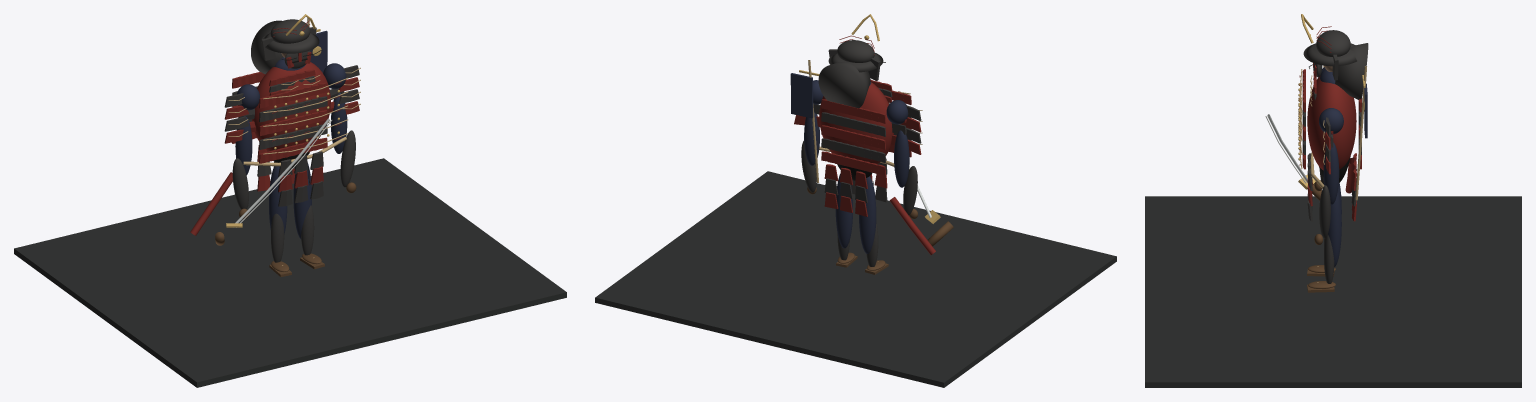
The model's file is actor-takeda-06.glb.
The picture shows the model from 3 angles, left to right: view 1: azimuth 30°, elevation 25°; view 2: azimuth 150°, elevation 25°; view 3: azimuth 270°, elevation 25°; orthographic projection. The views are drawn at different scales.
Visible parts, largest first — view 1: matte charcoal inspection plinth, rounded do cuirass silhouette, rear shikoro neck guard flare, segmented kabuto helmet bowl, right armored upper arm, right kote forearm guard, left kote forearm guard, wide kabuto brim, left hakama trouser leg, right hakama trouser leg, left armored upper arm, left shin greave (+2 smaller); view 2: matte charcoal inspection plinth, rear shikoro neck guard flare, rounded do cuirass silhouette, cloth sashimono banner panel, left hakama trouser leg, left armored upper arm, segmented kabuto helmet bowl, right hakama trouser leg, right armored upper arm, left kote forearm guard, lacquered saya scabbard at left hip; view 3: matte charcoal inspection plinth, rounded do cuirass silhouette, rear shikoro neck guard flare, segmented kabuto helmet bowl, right hakama trouser leg, wide kabuto brim, right armored upper arm, right kote forearm guard, right shoulder undercloth, right shin greave, bamboo sashimono back pole.
Part boxes in pixels (x1,y1,x2,y2): matte charcoal inspection plinth: [14, 158, 566, 387]; rounded do cuirass silhouette: [252, 62, 330, 151]; rear shikoro neck guard flare: [251, 20, 283, 74]; segmented kabuto helmet bowl: [270, 19, 310, 43]; right armored upper arm: [330, 93, 347, 153]; right kote forearm guard: [340, 130, 355, 187]; left kote forearm guard: [232, 158, 248, 209]; wide kabuto brim: [261, 33, 319, 53]; left hakama trouser leg: [269, 166, 287, 234]; right hakama trouser leg: [293, 163, 311, 239]; left armored upper arm: [235, 116, 252, 175]; left shin greave: [271, 213, 284, 262]; matte charcoal inspection plinth: [595, 171, 1116, 387]; rear shikoro neck guard flare: [818, 61, 870, 108]; rounded do cuirass silhouette: [819, 82, 893, 164]; cloth sashimono banner panel: [790, 73, 813, 118]; left hakama trouser leg: [859, 176, 876, 253]; left armored upper arm: [894, 130, 909, 187]; segmented kabuto helmet bowl: [837, 40, 874, 62]; right hakama trouser leg: [835, 173, 852, 248]; right armored upper arm: [804, 111, 819, 165]; left kote forearm guard: [903, 166, 917, 215]; lacquered saya scabbard at left hip: [889, 197, 935, 254]; matte charcoal inspection plinth: [1145, 196, 1521, 387]; rounded do cuirass silhouette: [1307, 76, 1356, 170]; rear shikoro neck guard flare: [1335, 43, 1368, 99]; segmented kabuto helmet bowl: [1316, 30, 1350, 56]; right hakama trouser leg: [1328, 189, 1341, 267]; wide kabuto brim: [1303, 43, 1356, 66]; right armored upper arm: [1323, 142, 1339, 204]; right kote forearm guard: [1319, 185, 1330, 238]; right shoulder undercloth: [1319, 108, 1343, 134]; right shin greave: [1324, 235, 1334, 283]; bamboo sashimono back pole: [1355, 66, 1366, 200].
Size of the model in its own units: 4.2 by 2.96 by 3.6.
